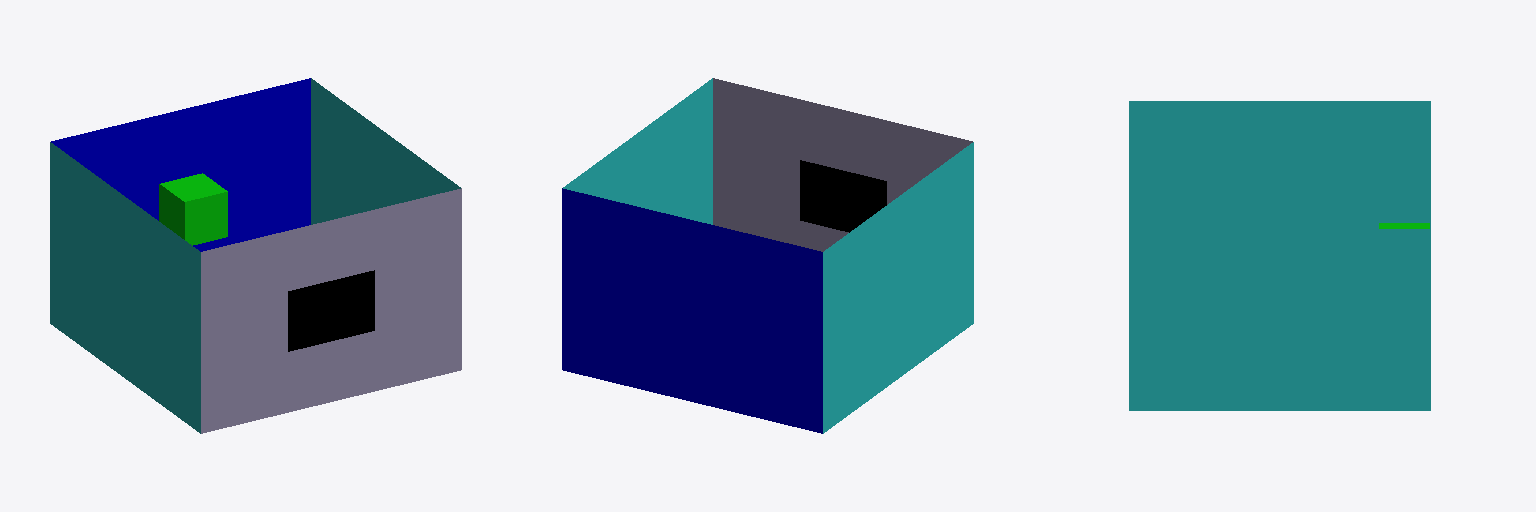
File: cubescene2.obj
The picture shows the model from 3 angles: view 1: azimuth 30°, elevation 25°; view 2: azimuth 150°, elevation 25°; view 3: azimuth 270°, elevation 25°; orthographic projection.
Parts seen in each view (by area): view 1: Grid.002, wall4, wall2, wall3, Cube_Cube.002; view 2: wall2, wall4, Grid.002, wall3; view 3: wall3, wall4.
Part boxes in pixels (x1,y1,x2,y2): Grid.002: (201, 188, 461, 433); wall4: (50, 142, 200, 433); wall2: (51, 78, 310, 251); wall3: (311, 78, 460, 224); Cube_Cube.002: (159, 173, 227, 245); wall2: (562, 188, 822, 433); wall4: (823, 142, 973, 433); Grid.002: (713, 78, 972, 251); wall3: (563, 78, 712, 224); wall3: (1129, 229, 1430, 410); wall4: (1129, 101, 1430, 228).
Bounding box in the file's own units: 3 × 2 × 3.